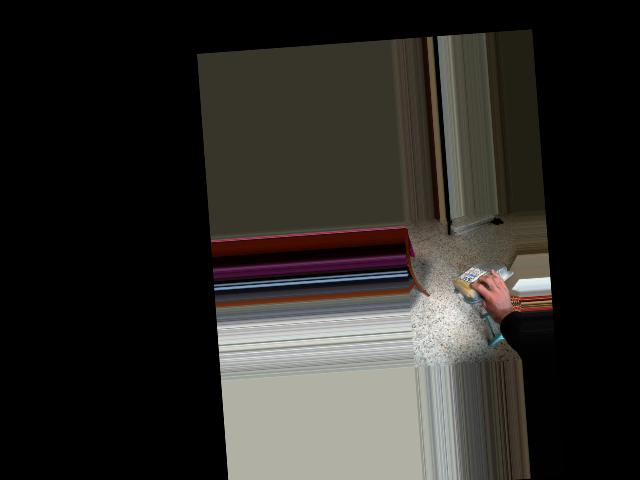cheese: (446, 264, 510, 296)
